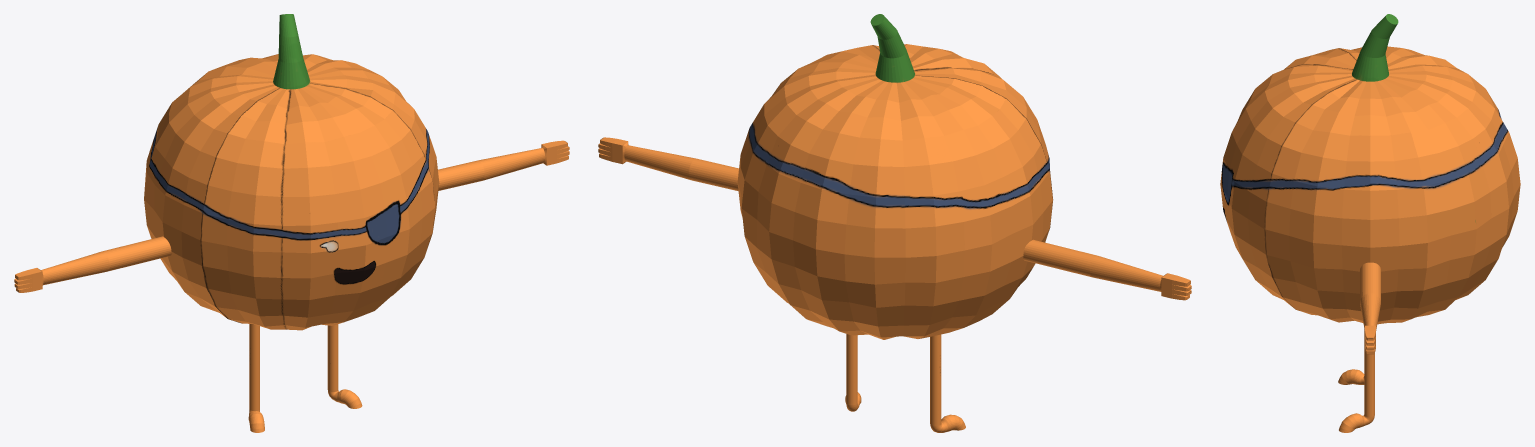
The model's file is PatchyThePumpkin.fbx.
3 renders of one model, left to right at view 1: azimuth 30°, elevation 25°; view 2: azimuth 150°, elevation 25°; view 3: azimuth 270°, elevation 25°, orthographic. The views are drawn at different scales.
Visible parts, largest first — view 1: Sphere; view 2: Sphere; view 3: Sphere.
Boxes of the visible parts, x1,y1,x2,y2 form: Sphere: (14, 14, 569, 432); Sphere: (598, 14, 1191, 432); Sphere: (1220, 14, 1520, 432).
Size of the model in its own units: 442 by 297 by 207.
Materials: 1 (1 with a texture image).
